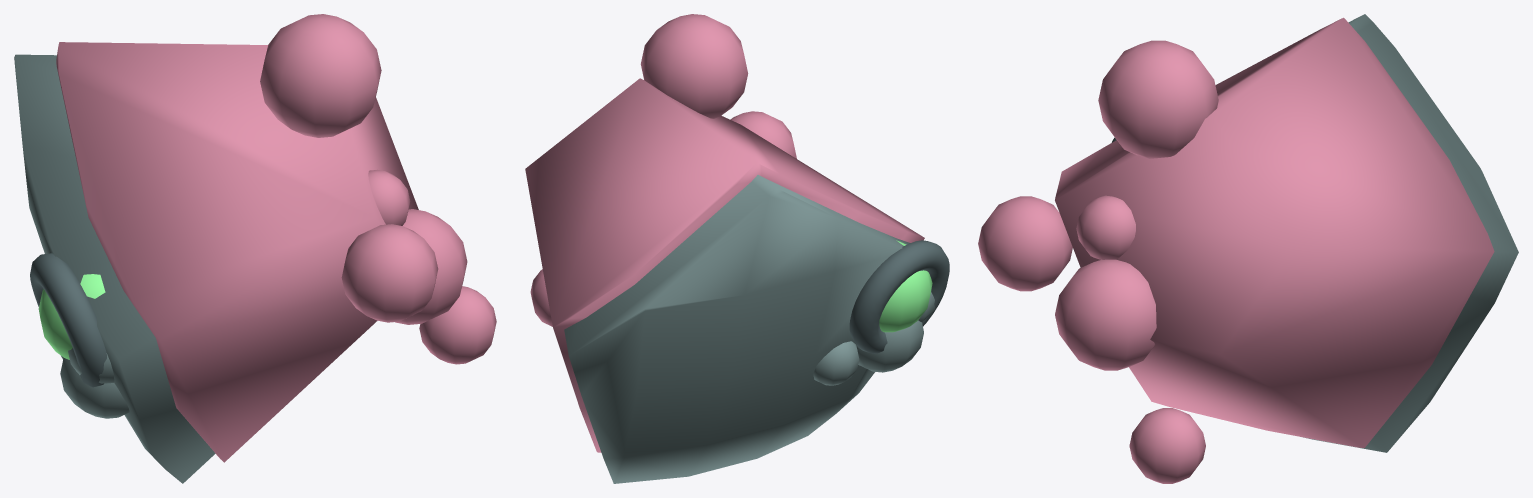
Rendered from chunk11.glb.
3 views of the same model, side by side, from view 1: azimuth 30°, elevation 25°; view 2: azimuth 150°, elevation 25°; view 3: azimuth 270°, elevation 25° (orthographic). The views are drawn at different scales.
Visible parts, largest first — view 1: flesh, skin, lip, glow; view 2: skin, flesh, lip, glow; view 3: flesh, skin.
Boxes of the visible parts, box(x1,y1,x2,y2) form: flesh: box(56, 14, 496, 462); skin: box(14, 54, 215, 483); lip: box(30, 253, 106, 387); glow: box(38, 274, 105, 359); skin: box(564, 175, 935, 483); flesh: box(525, 14, 924, 452); lip: box(849, 240, 949, 353); glow: box(879, 240, 932, 332); flesh: box(978, 17, 1494, 483); skin: box(1303, 14, 1518, 452).
Size of the model in its own units: 0.9106 by 0.8582 by 0.9821.
